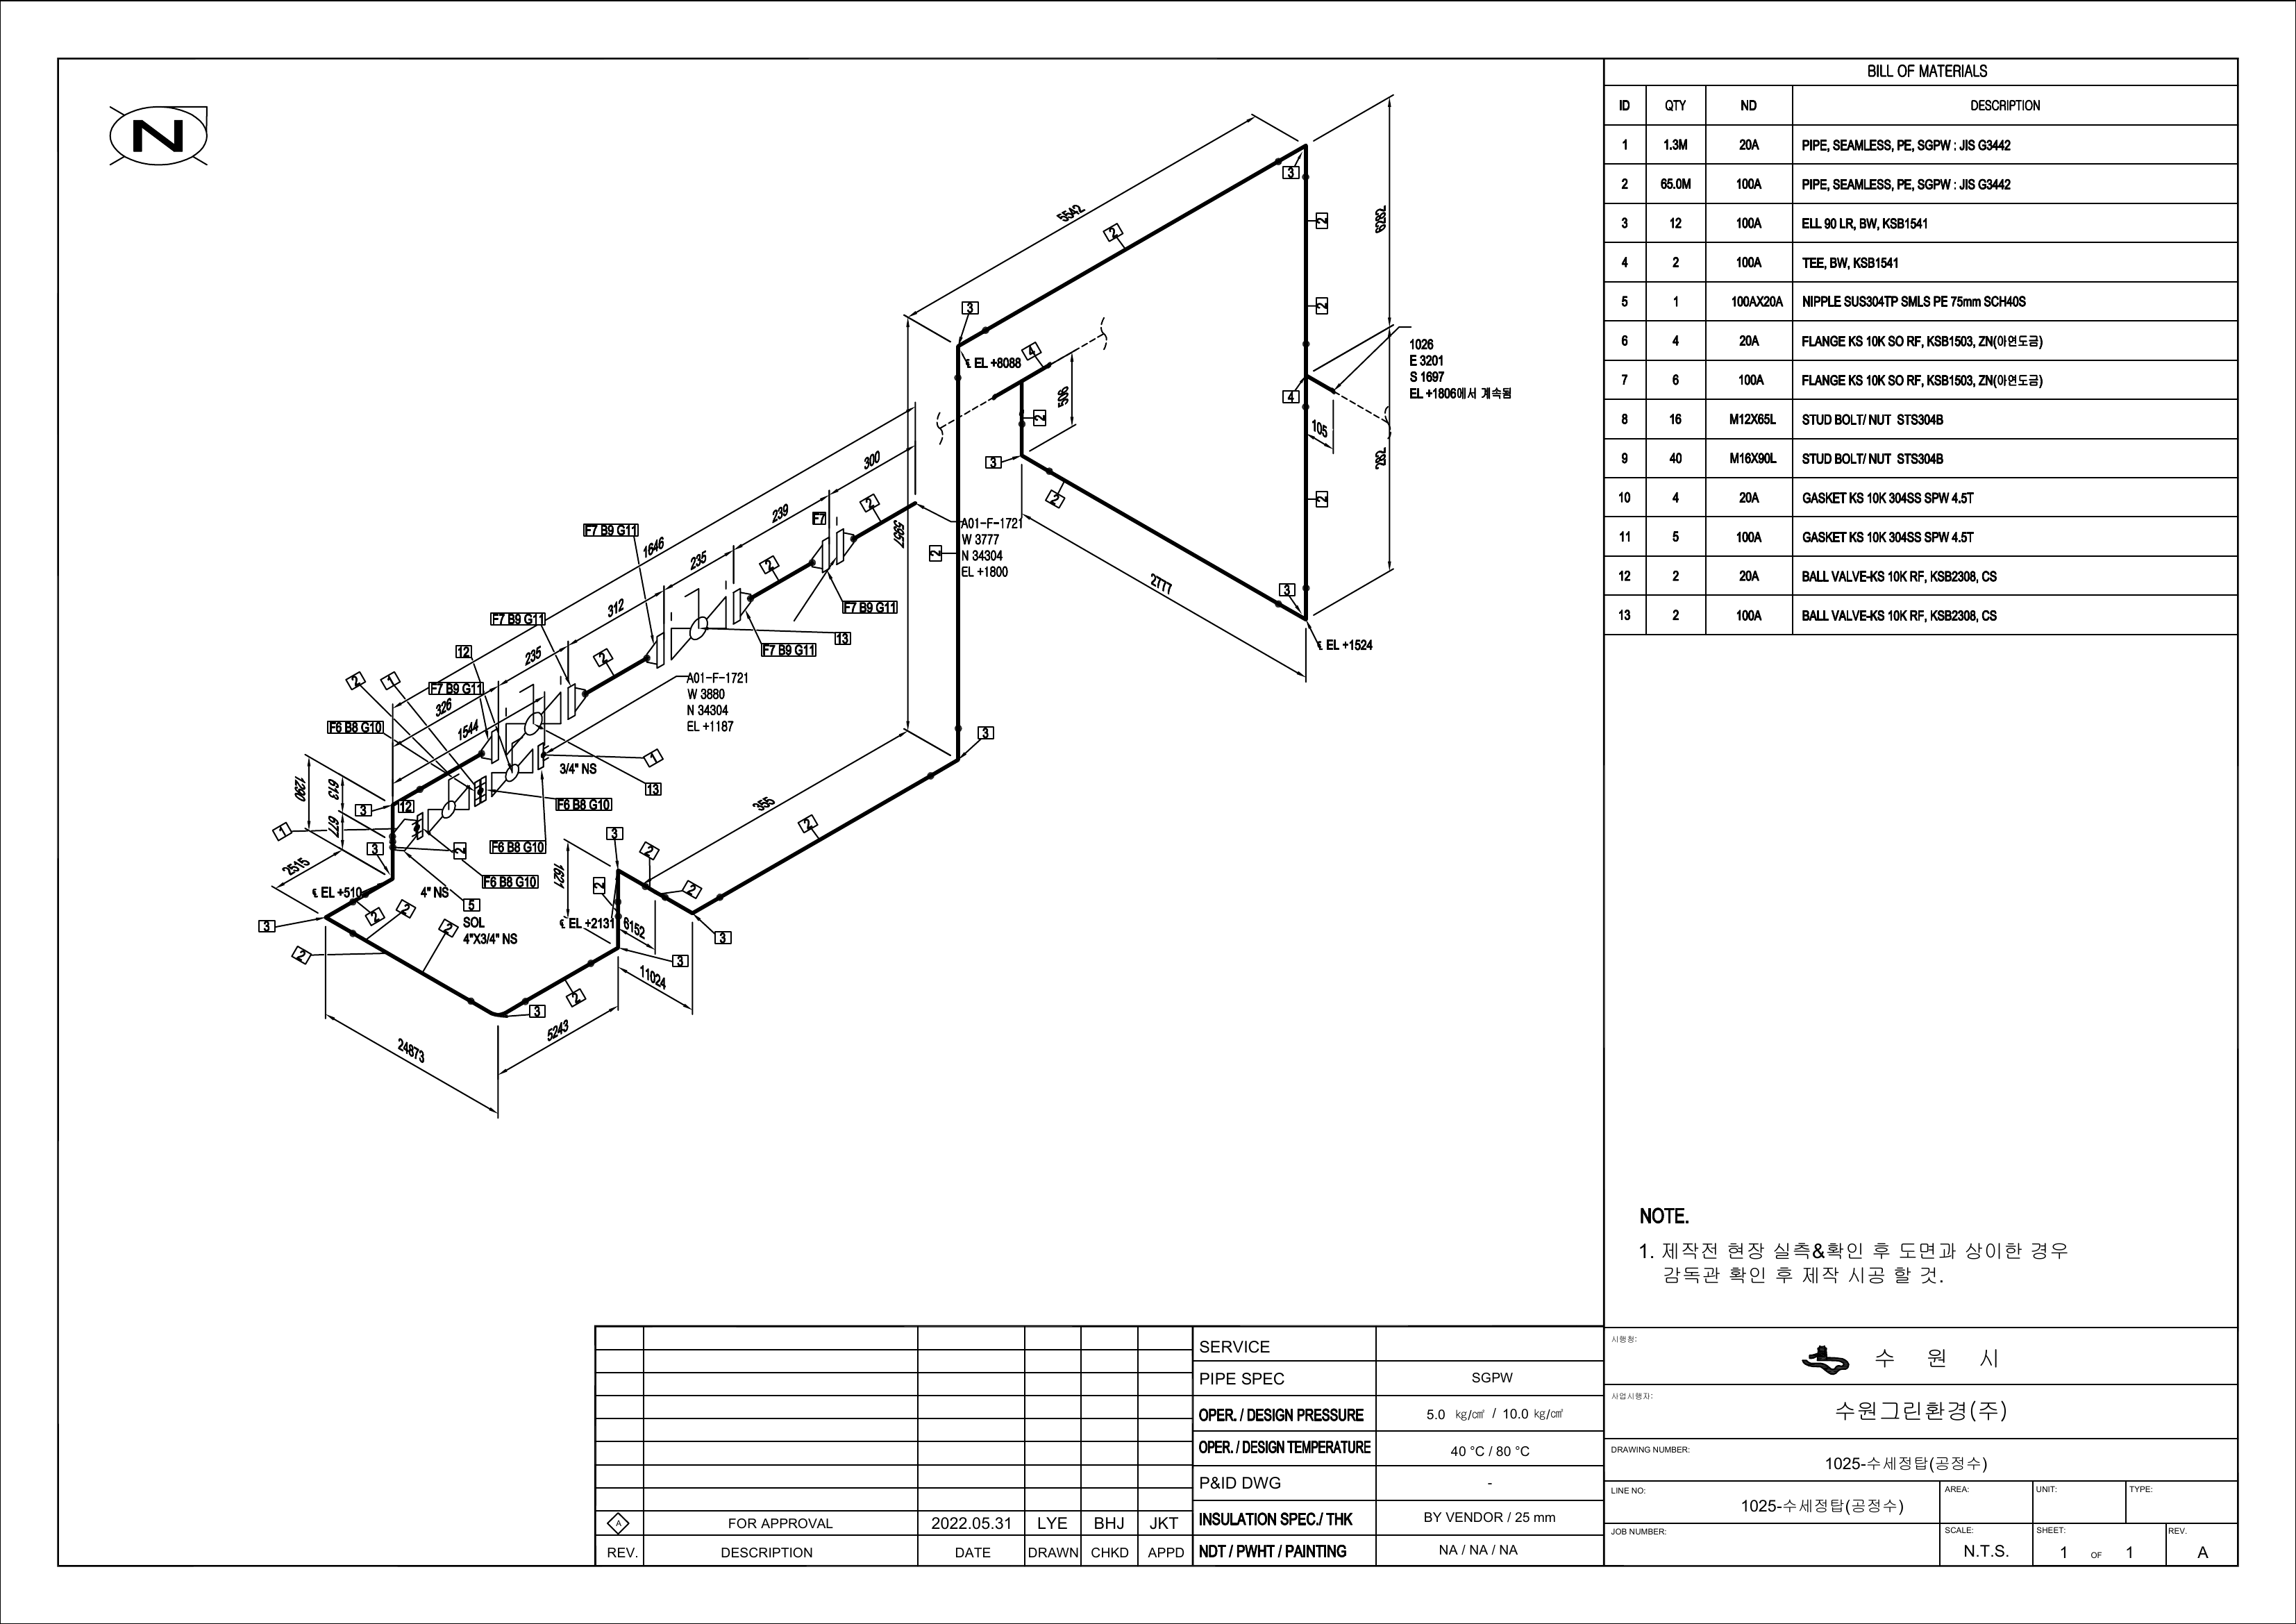table: (1599, 51, 2243, 638)
